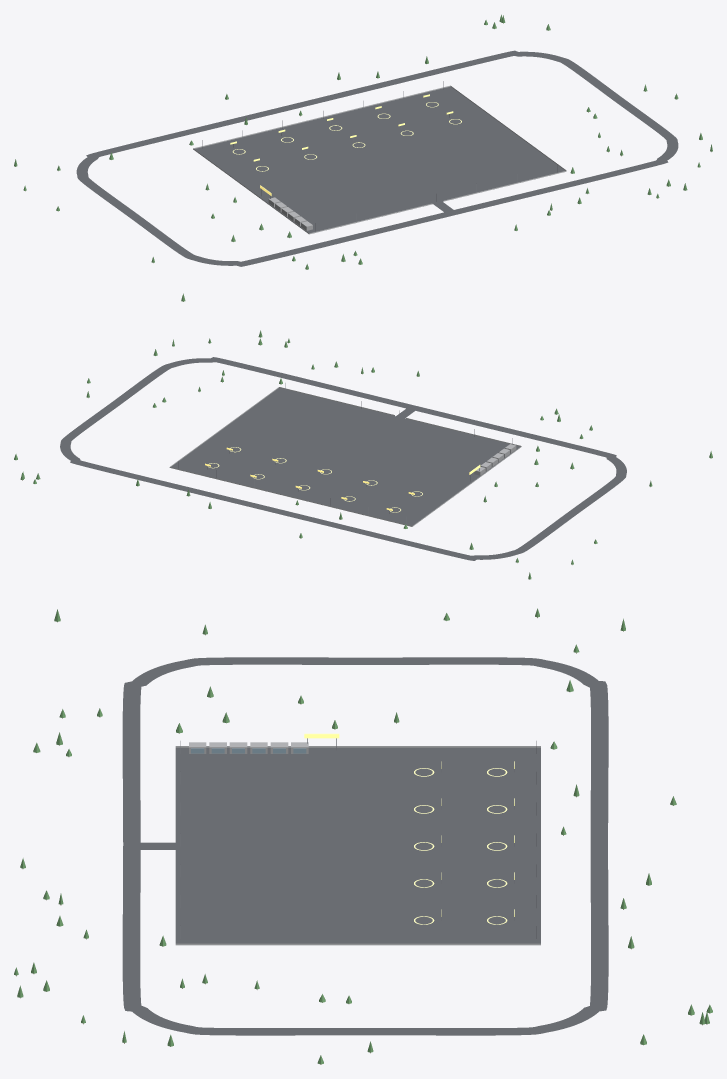
File: hub.glb
The picture shows the model from 3 angles, top to bottom: view 1: azimuth 30°, elevation 25°; view 2: azimuth 150°, elevation 25°; view 3: azimuth 270°, elevation 25°; orthographic projection. The views are drawn at different scales.
Visible parts, largest first — view 1: hub.tarmac, hub.barrier, hub.foliage, hub.paint; view 2: hub.tarmac, hub.barrier, hub.foliage, hub.paint; view 3: hub.tarmac, hub.foliage, hub.barrier, hub.concrete, hub.paint.
Boxes of the visible parts, <box> form: hub.tarmac: <box>76,50,678,266</box>; hub.barrier: <box>193,85,566,234</box>; hub.foliage: <box>14,14,712,301</box>; hub.paint: <box>230,94,461,195</box>; hub.tarmac: <box>60,357,626,560</box>; hub.barrier: <box>169,387,521,526</box>; hub.foliage: <box>14,330,712,579</box>; hub.paint: <box>205,447,480,512</box>; hub.tarmac: <box>122,657,608,1035</box>; hub.foliage: <box>14,608,712,1064</box>; hub.barrier: <box>175,746,540,945</box>; hub.concrete: <box>189,742,308,753</box>; hub.paint: <box>304,733,514,924</box>.
Bounding box in the file's own units: 728 × 12.22 × 479.
